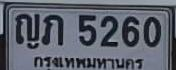0: (143, 16, 160, 46)
2: (100, 15, 117, 46)
5: (78, 14, 95, 45)
6: (121, 15, 138, 46)
A13: (15, 13, 39, 44)
A32: (41, 14, 63, 44)
BKK: (31, 53, 148, 70)
